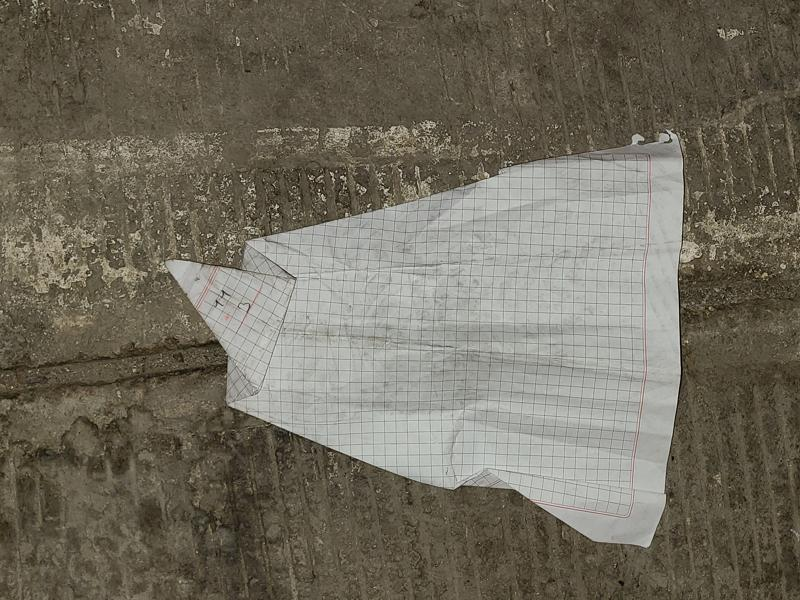papel: (164, 133, 687, 549)
